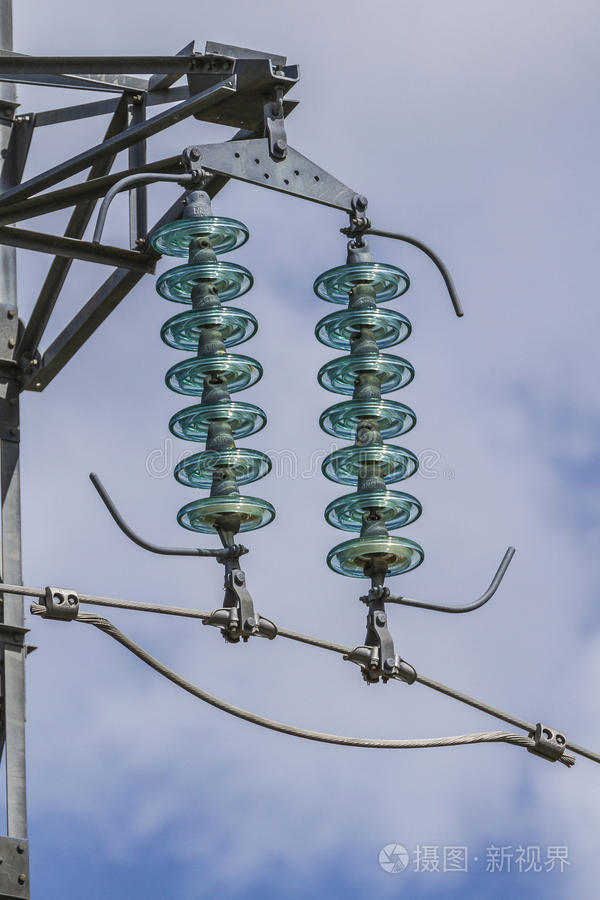insulator: (149, 218, 279, 527), (315, 263, 431, 577)
